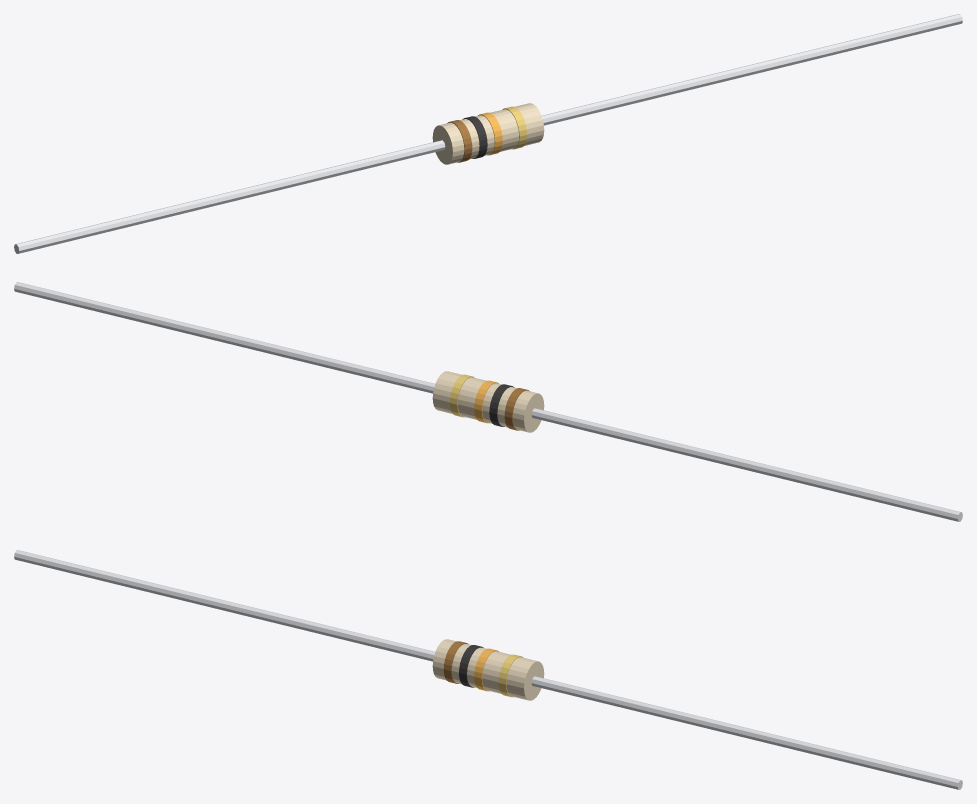
File: axial-resistor.glb
The picture shows the model from 3 angles, top to bottom: view 1: azimuth 30°, elevation 25°; view 2: azimuth 150°, elevation 25°; view 3: azimuth 330°, elevation 25°; orthographic projection.
Visible parts, largest first — view 1: axial-resistor, axial-resistor_body; view 2: axial-resistor, axial-resistor_body; view 3: axial-resistor, axial-resistor_body.
Boxes of the visible parts, <box> form: axial-resistor: <box>14,14,962,253</box>; axial-resistor_body: <box>432,103,544,164</box>; axial-resistor: <box>14,282,962,521</box>; axial-resistor_body: <box>432,371,544,432</box>; axial-resistor: <box>14,550,962,789</box>; axial-resistor_body: <box>432,639,544,700</box>.
Size of the model in its own units: 0.062 by 0.0024 by 0.0024.
